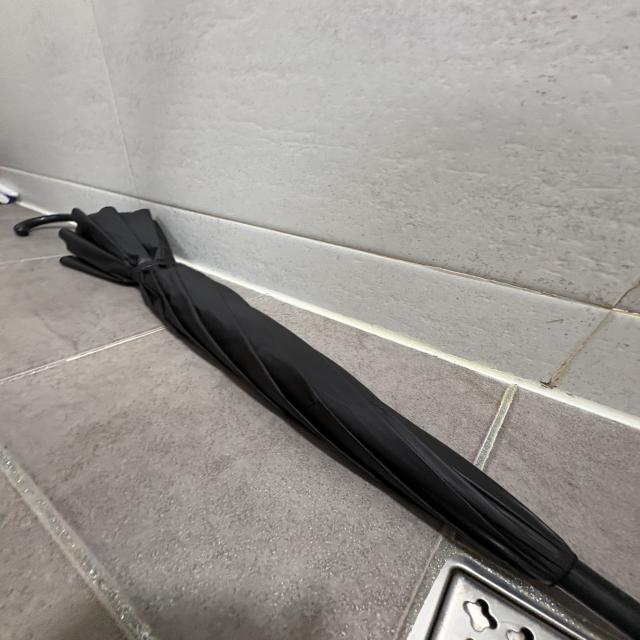umbrella: (17, 205, 640, 634)
